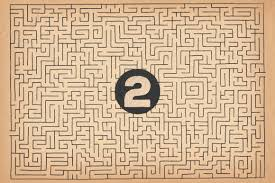maze: (8, 4, 266, 180)
